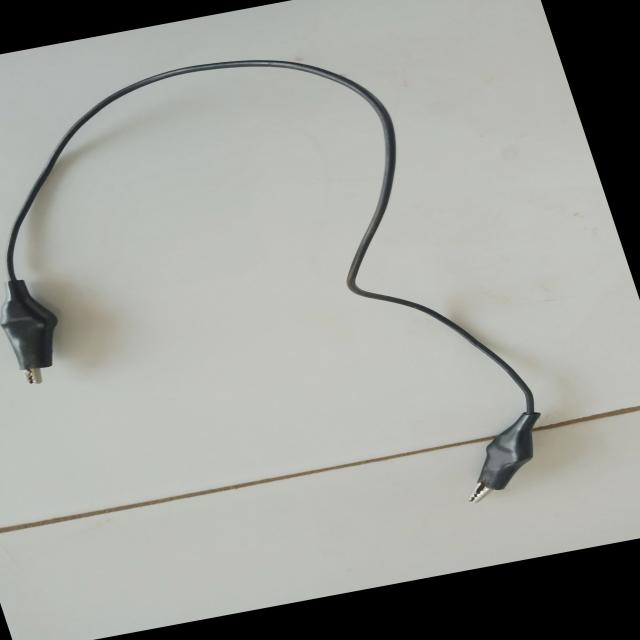BNC Cables Both Clips: (0, 11, 585, 590)
